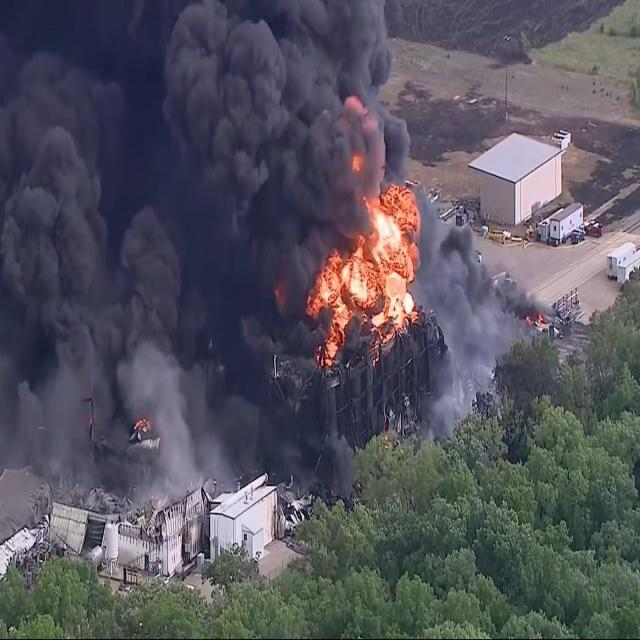Fire: (305, 87, 420, 375), (522, 309, 544, 331), (131, 420, 156, 436)
Smoke: (0, 0, 188, 496), (152, 0, 408, 315), (411, 181, 555, 409)
